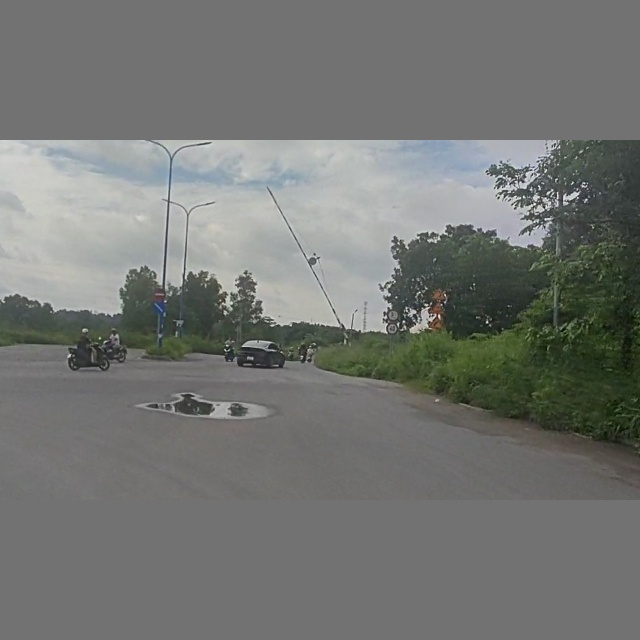P.102: (153, 287, 167, 301)
P.127*40: (387, 322, 401, 335)
R.302a: (151, 301, 167, 315)
W.201b: (428, 315, 445, 330)
